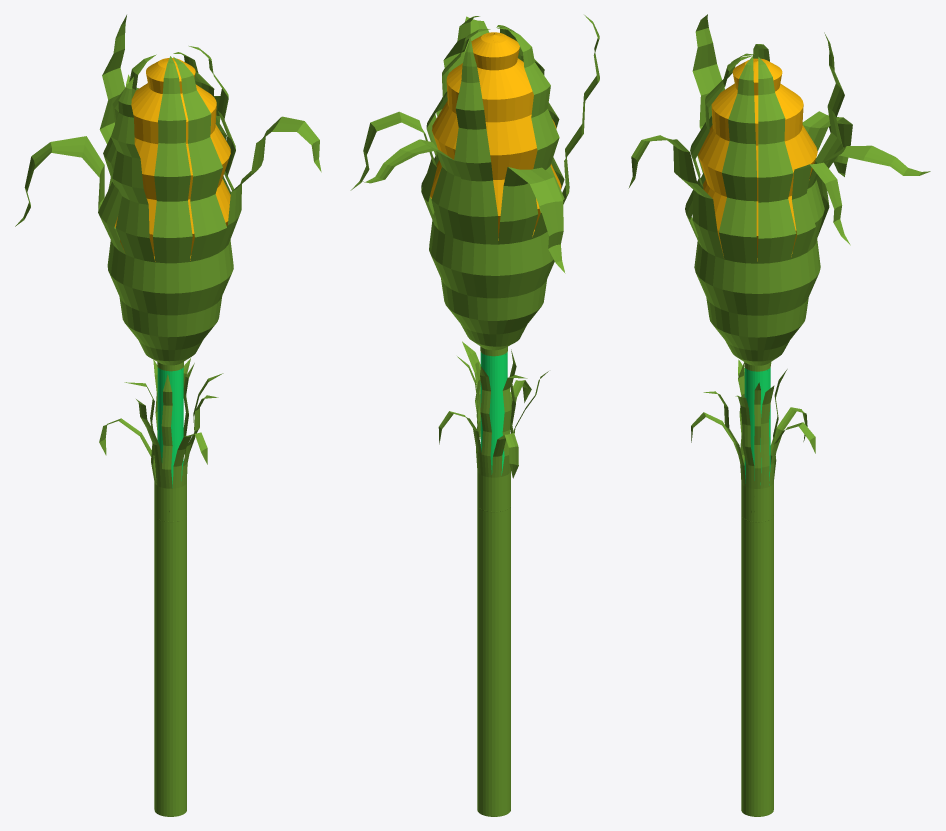
File: corn2.fbx
3 views of the same model, side by side, from view 1: azimuth 30°, elevation 25°; view 2: azimuth 150°, elevation 25°; view 3: azimuth 270°, elevation 25° (orthographic). The views are drawn at different scales.
Parts seen in each view (by area): view 1: leafs, stock bottom, stock leaf, corn, stock; view 2: leafs, stock bottom, corn, stock leaf, stock; view 3: leafs, stock bottom, corn, stock leaf, stock.
Part boxes in pixels (x1,y1,x2,y2): leafs: [15, 15, 321, 371]; stock bottom: [154, 514, 186, 816]; stock leaf: [99, 358, 223, 521]; corn: [114, 58, 230, 261]; stock: [157, 367, 183, 487]; leafs: [350, 15, 599, 356]; stock bottom: [477, 505, 510, 816]; corn: [430, 32, 561, 240]; stock leaf: [438, 341, 548, 511]; stock: [480, 352, 507, 475]; leafs: [628, 14, 930, 371]; stock bottom: [741, 515, 773, 816]; corn: [698, 58, 817, 261]; stock leaf: [691, 359, 815, 521]; stock: [744, 367, 770, 485].
Bounding box in the file's own units: 72.75 × 262 × 93.05.
Materials: 5 (5 with a texture image).
